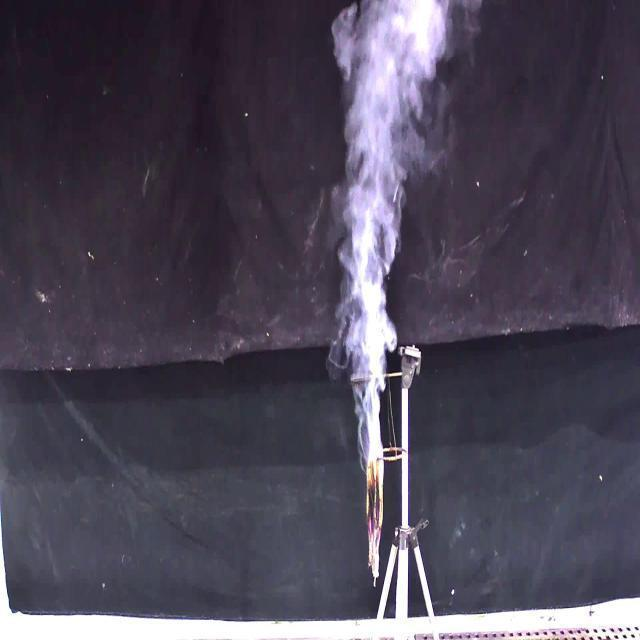fire: (330, 0, 450, 468)
